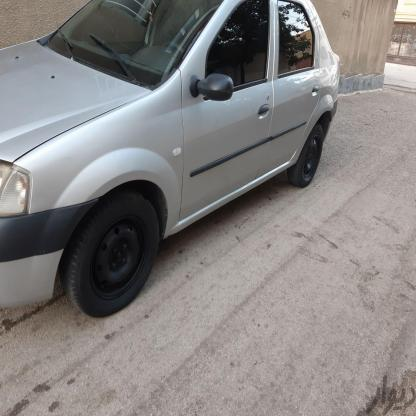Car: (0, 0, 344, 323)
